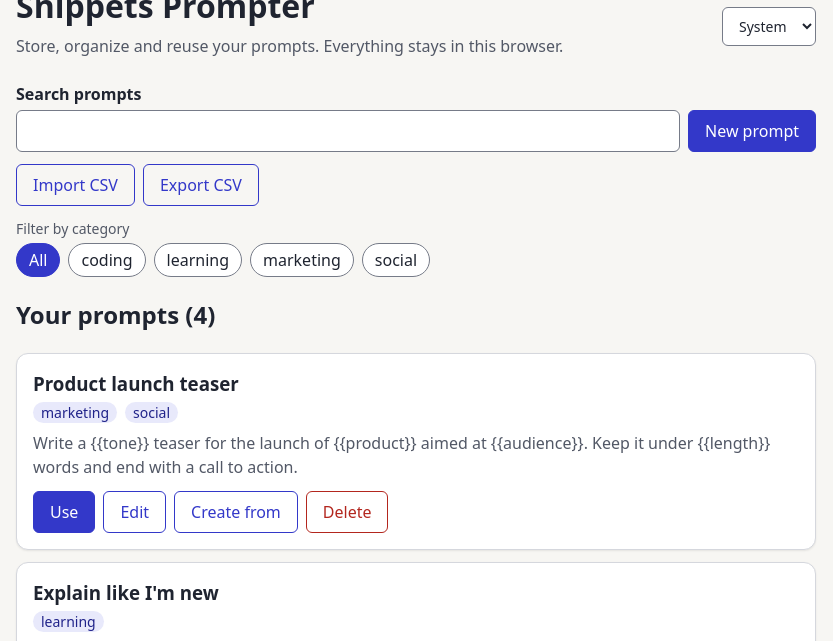
Test case: App › validates required fields
Click the button "New prompt".
click(752, 131)  # box [688,110,816,152]
(page scrolled)
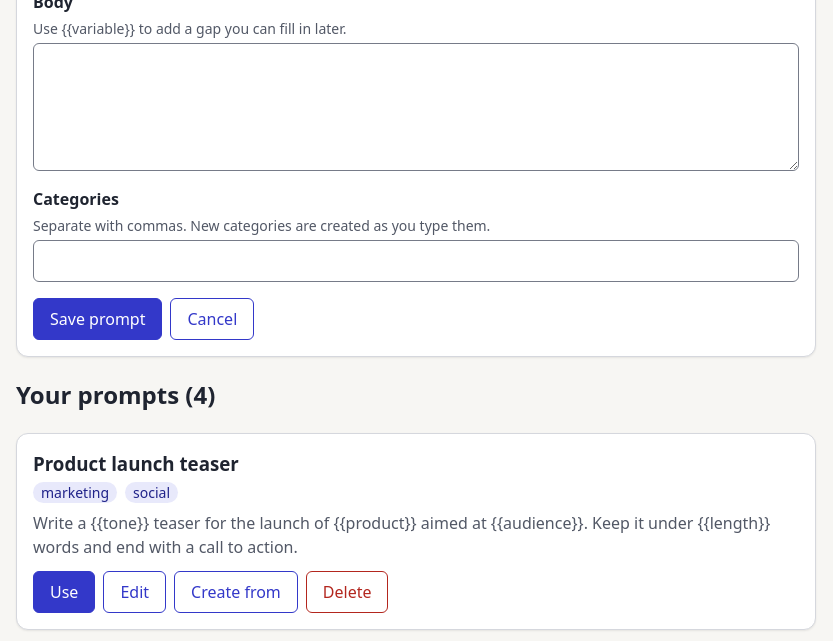
Click the button "Save prompt".
click(98, 319)  # box [33,298,162,340]
(page scrolled)
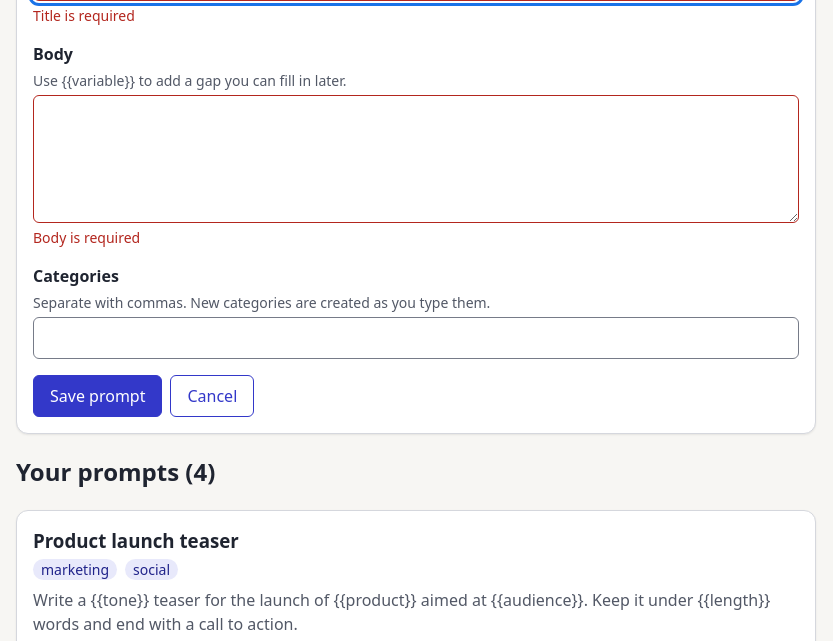
Check: the text "Title is required" is shown, box [33,6,135,25]
Check: the text "Body is required" is shown, box [33,228,140,247]
